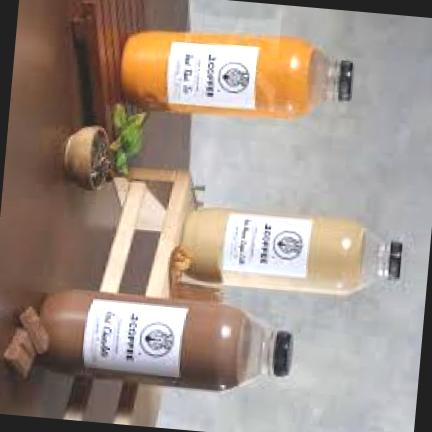container: (36, 290, 291, 389), (120, 31, 352, 118), (184, 208, 400, 294)
fluid: (34, 289, 245, 388), (121, 30, 316, 118), (182, 207, 366, 292)
fluid-surface: (236, 318, 252, 379), (306, 53, 317, 102), (358, 234, 369, 283)
